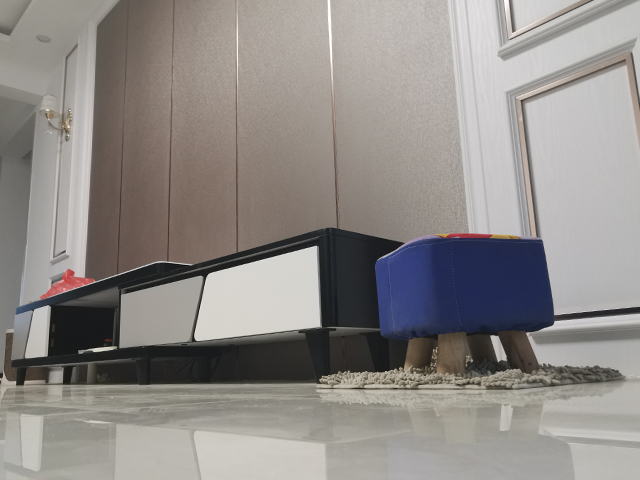cabinet: (7, 225, 406, 387)
carpet: (313, 347, 630, 392)
stool: (373, 231, 558, 379)
